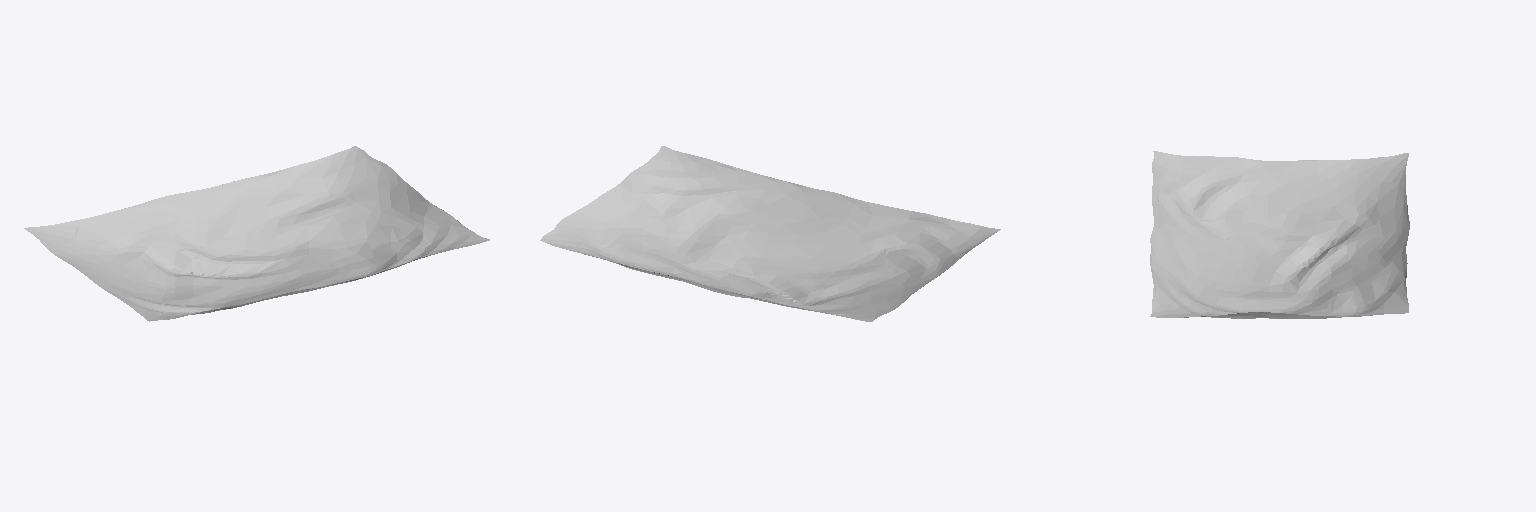
File: blanket2.obj
The picture shows the model from 3 angles: view 1: azimuth 30°, elevation 25°; view 2: azimuth 150°, elevation 25°; view 3: azimuth 270°, elevation 25°; orthographic projection.
Parts seen in each view (by area): view 1: cube_NewUVs2; view 2: cube_NewUVs2; view 3: cube_NewUVs2.
Boxes of the visible parts, x1,y1,x2,y2 form: cube_NewUVs2: [24, 146, 489, 321]; cube_NewUVs2: [540, 146, 1000, 321]; cube_NewUVs2: [1150, 151, 1409, 318].
Bounding box in the file's own units: 2.49 × 0.3219 × 1.64.